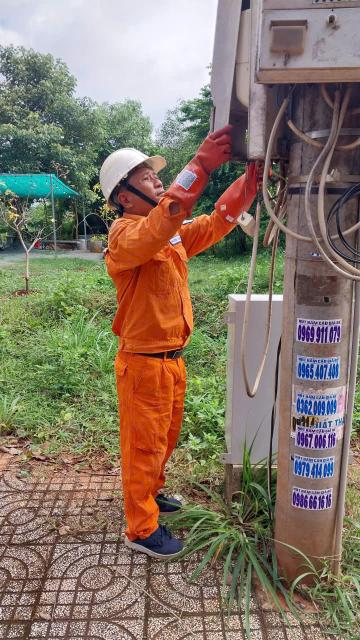gloves: (163, 123, 232, 217), (220, 152, 278, 228)
helmet: (80, 149, 180, 208)
shoes: (112, 518, 191, 564), (133, 487, 206, 520)
